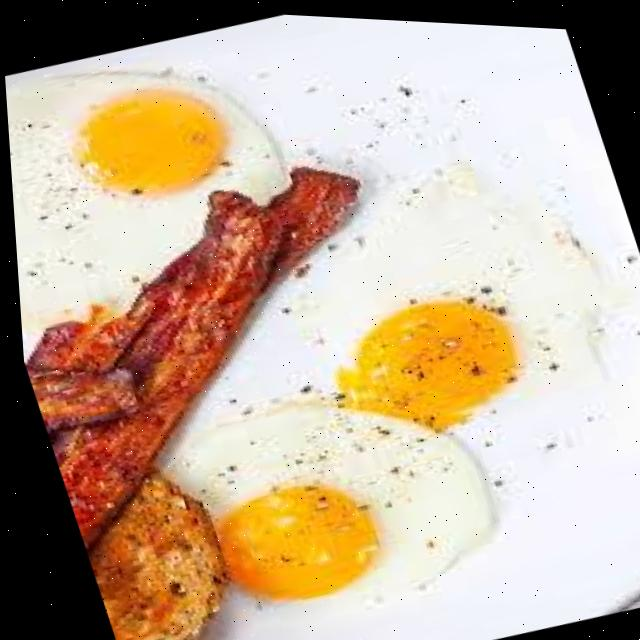Bacon: (26, 163, 353, 541), (26, 369, 129, 428)
Egg: (5, 71, 281, 343), (158, 397, 486, 599), (331, 287, 515, 426)
